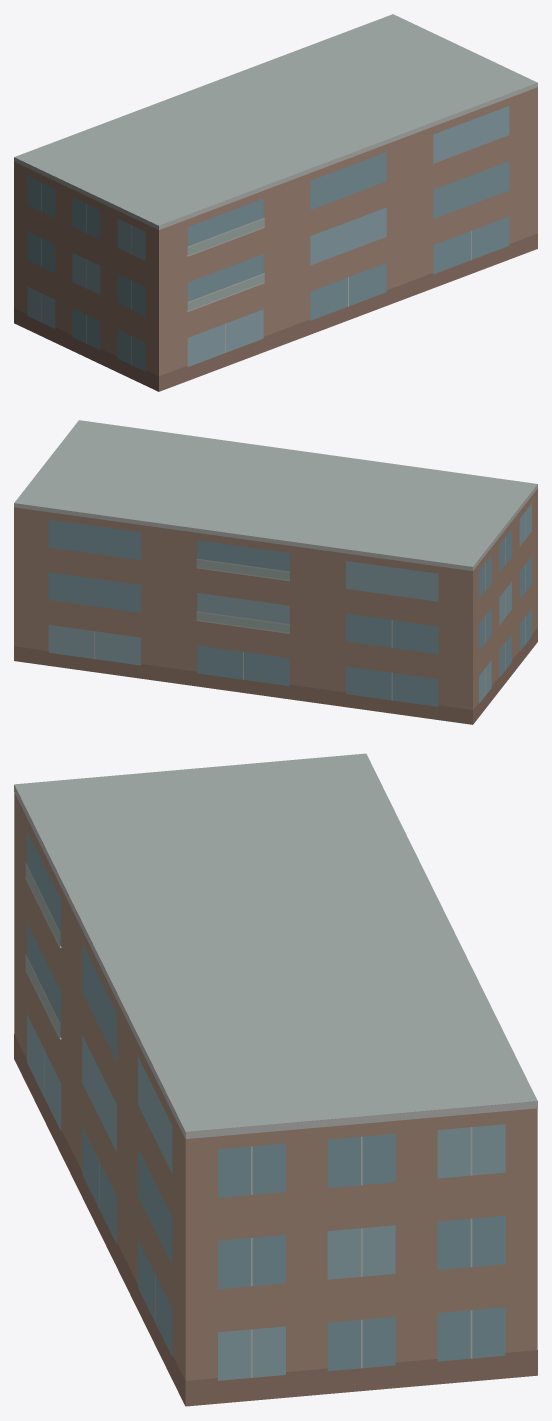
File: survey-upis-33019239.glb
3 renders of one model, top to bottom at view 1: azimuth 30°, elevation 25°; view 2: azimuth 150°, elevation 25°; view 3: azimuth 270°, elevation 25°, orthographic. The views are drawn at different scales.
Visible parts, largest first — view 1: survey-upis-33019239.tmp; view 2: survey-upis-33019239.tmp; view 3: survey-upis-33019239.tmp.
Part boxes in pixels (x1,y1,x2,y2): survey-upis-33019239.tmp: (14,14,537,391); survey-upis-33019239.tmp: (14,420,537,724); survey-upis-33019239.tmp: (14,753,537,1406).
Size of the model in its own units: 27.06 by 9.15 by 15.83.
